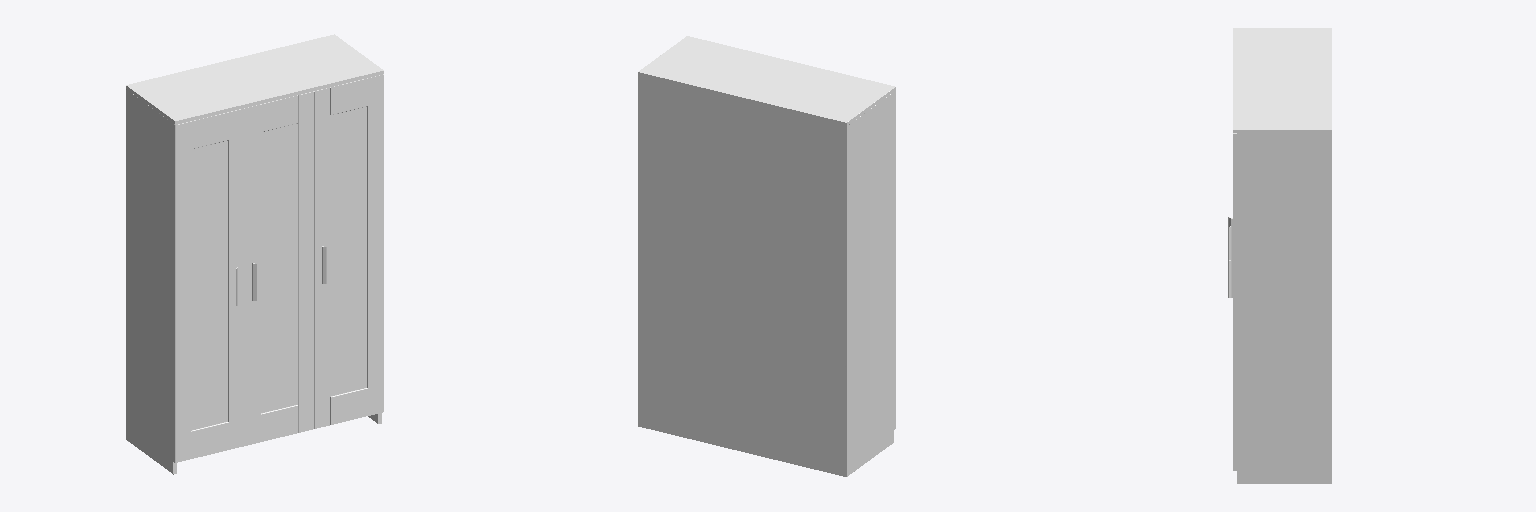
File: IKE160201.obj
The picture shows the model from 3 angles: view 1: azimuth 30°, elevation 25°; view 2: azimuth 150°, elevation 25°; view 3: azimuth 270°, elevation 25°; orthographic projection.
Visible parts, largest first — view 1: Rectangle005, Rectangle001, Rectangle003, Rectangle011, Rectangle010, Line010, Line015, Line011, Line014, Line013, Line012, Line008 (+5 smaller); view 2: Rectangle009, Rectangle005, Rectangle001, Rectangle006, Line010; view 3: Rectangle006, Rectangle001, Line015.
Part boxes in pixels (x1,y1,x2,y2): Rectangle005: (126, 89, 176, 473); Rectangle001: (126, 34, 383, 124); Rectangle003: (261, 124, 297, 412); Rectangle011: (191, 141, 227, 430); Rectangle010: (330, 107, 366, 396); Line010: (173, 121, 190, 462); Line015: (367, 74, 383, 415); Line011: (228, 108, 244, 449); Line014: (298, 91, 313, 432); Line013: (314, 88, 329, 428); Line012: (245, 104, 260, 445); Line008: (330, 388, 367, 424); Rectangle009: (641, 77, 842, 475); Rectangle005: (843, 92, 893, 476); Rectangle001: (638, 36, 895, 126); Rectangle006: (638, 76, 640, 426); Line010: (894, 91, 895, 429); Rectangle006: (1237, 133, 1331, 483); Rectangle001: (1233, 28, 1331, 132); Line015: (1233, 133, 1236, 470).
Bounding box in the file's own units: 1170 × 1900 × 500.